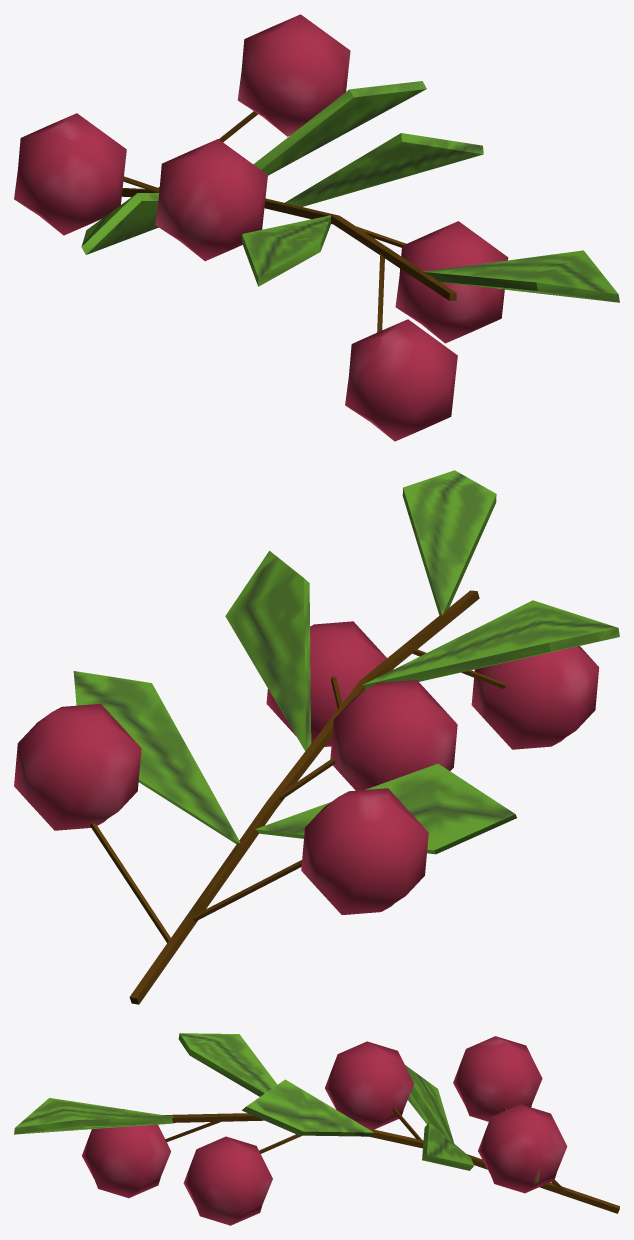
Rendered from Cranberries001.FBX.
3 views of the same model, one above another, from view 1: azimuth 30°, elevation 25°; view 2: azimuth 150°, elevation 25°; view 3: azimuth 270°, elevation 25° (orthographic). The views are drawn at different scales.
Visible parts, largest first — view 1: Box004; view 2: Box004; view 3: Box004.
Boxes of the visible parts, x1,y1,x2,y2 form: Box004: (14,14,619,441); Box004: (14,470,619,1004); Box004: (14,1033,619,1225).
Size of the model in its own units: 5.49 by 2.92 by 10.16.
